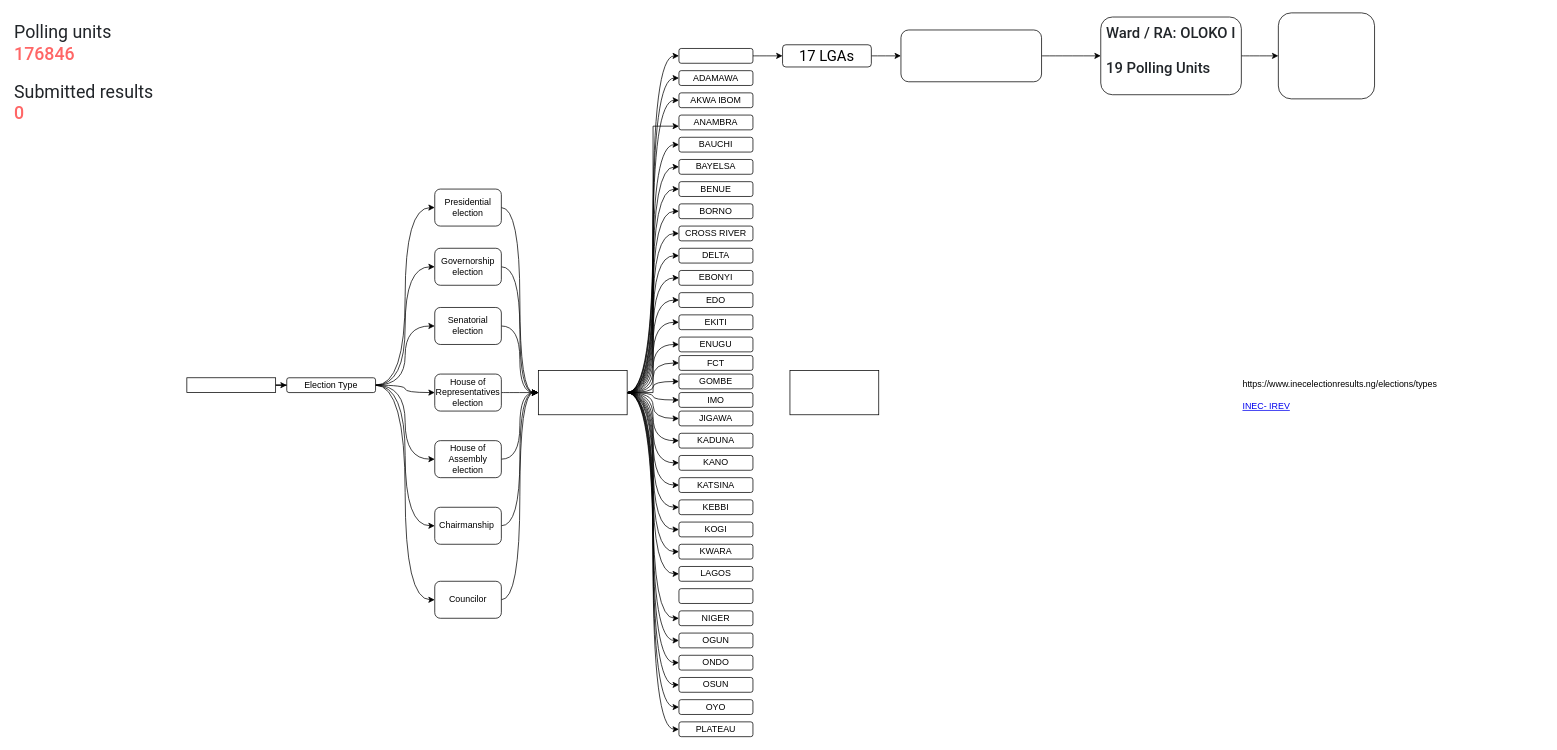
Image size: 1557x750. Some labels were removed from this diagram. The centre of each missing label's shape, as x and y in pixels:
ABIA: the point at 715,55
LGA: IKWUANO Wards / RA: the point at 971,55
Local Government: the point at 834,392
NASARAWA: the point at 715,595
Online portal: the point at 231,385
view Result sheet (pdf/png): the point at 1326,55
View results by state: the point at 582,392
